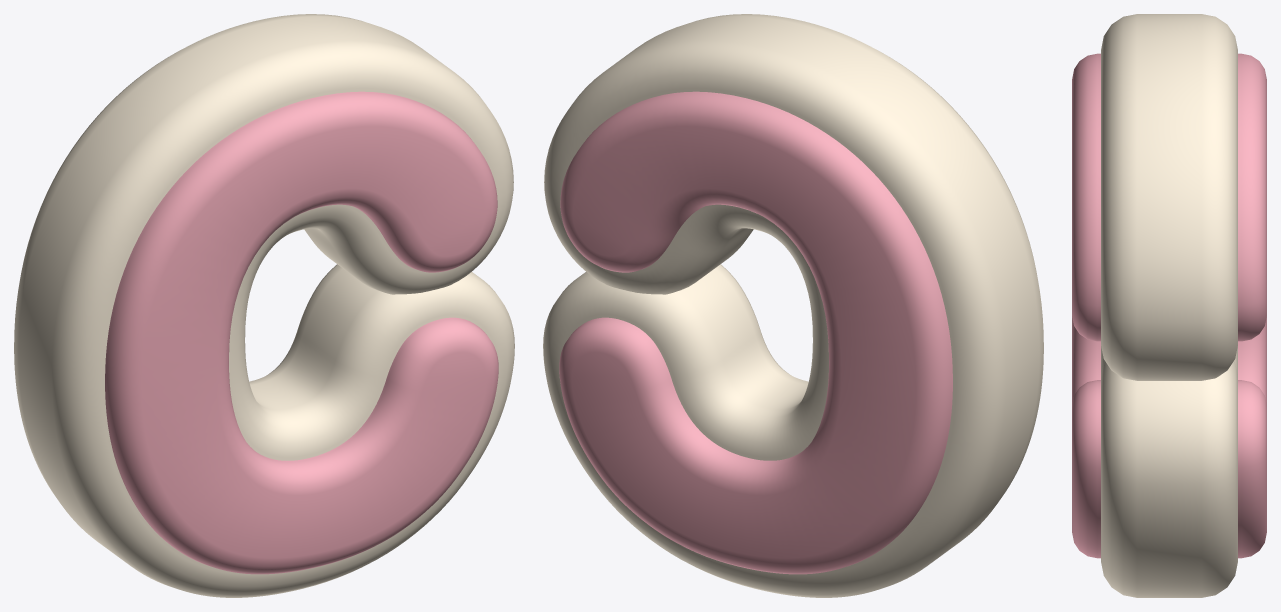
The model's file is candy_letter_C.glb.
3 views of the same model, side by side, from view 1: azimuth 30°, elevation 25°; view 2: azimuth 150°, elevation 25°; view 3: azimuth 270°, elevation 25° (orthographic).
Visible parts, largest first — view 1: candy_letter_C; view 2: candy_letter_C; view 3: candy_letter_C.
Boxes of the visible parts, x1,y1,x2,y2 form: candy_letter_C: (14, 14, 514, 597); candy_letter_C: (543, 14, 1043, 597); candy_letter_C: (1072, 14, 1266, 597).
Size of the model in its own units: 0.7129 by 0.8 by 0.2668.
